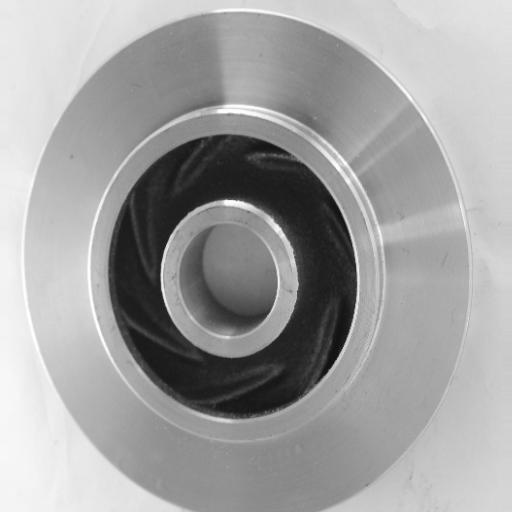polished_casting: (23, 12, 476, 512)
